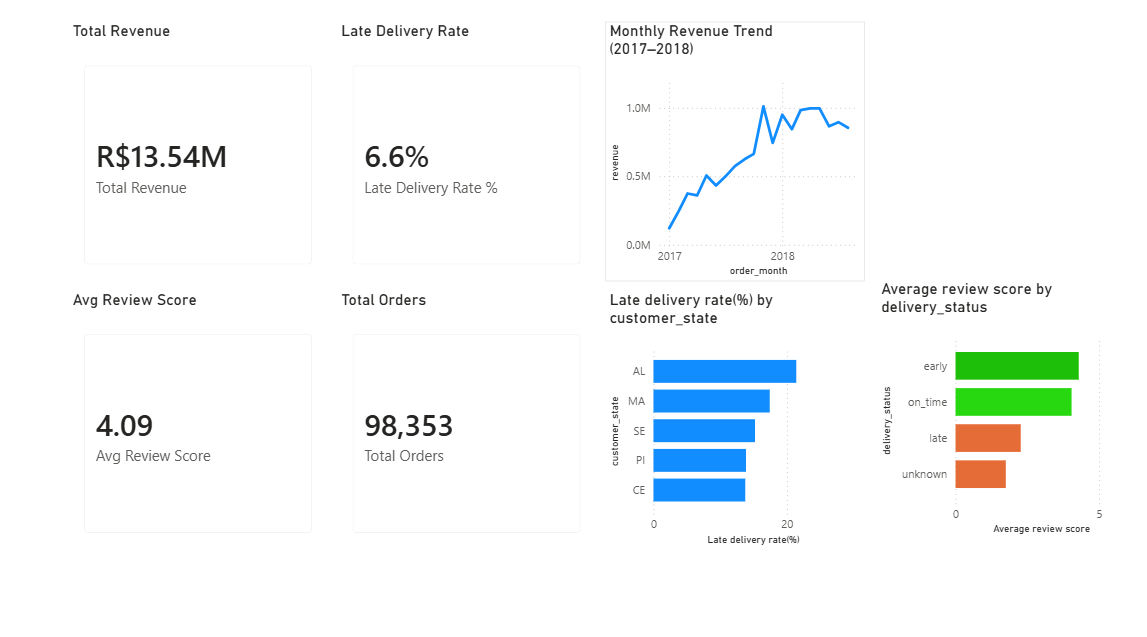

The dashboard page shown, as its layout file describes it:
{"tool":"powerbi","page":{"name":"Executive Overview","canvas":[1280,720],"ordinal":0},"visuals":[{"type":"cardVisual","title":"Total Revenue","fields":{"Data":["_Measures.Total Revenue"]},"box":[77.7,30.8,280,280],"z":0},{"type":"cardVisual","title":"Avg Review Score","fields":{"Data":["_Measures.Avg Review Score"]},"box":[78,321,280,280],"z":1000},{"type":"cardVisual","title":"Late Delivery Rate","fields":{"Data":["_Measures.Late Delivery Rate %"]},"box":[367.6,30.8,280,280],"z":2000},{"type":"cardVisual","title":"Total Orders","fields":{"Data":["_Measures.Total Orders"]},"box":[368,321,280,280],"z":3000},{"type":"lineChart","title":"Monthly Revenue Trend (2017–2018)","fields":{"Y":["Sum(public vw_monthly_revenue.total_revenue)"],"Category":["public vw_monthly_revenue.order_month"]},"box":[658,31,280,280],"z":4000},{"type":"clusteredBarChart","fields":{"Category":["public vw_late_delivery_by_state.customer_state"],"Y":["Avg(public vw_late_delivery_by_state.late_rate_pct)"]},"box":[658,321,280,280],"z":5000},{"type":"clusteredBarChart","fields":{"Category":["public vw_review_score_by_delivery_status.delivery_status"],"Y":["Avg(public vw_review_score_by_delivery_status.avg_review_score)"]},"box":[950.6,309.9,280,280],"z":6000}]}

Visuals, with their boxes in screenshot pixels (x1, y1, x2, y2), scaled from the page's 1280x720 canvas onto the 1147x637 screenshot:
"Total Revenue" cardVisual: (70, 27, 321, 275)
"Avg Review Score" cardVisual: (70, 284, 321, 532)
"Late Delivery Rate" cardVisual: (329, 27, 580, 275)
"Total Orders" cardVisual: (330, 284, 581, 532)
"Monthly Revenue Trend (2017–2018)" lineChart: (590, 27, 841, 275)
clusteredBarChart - public vw_late_delivery_by_state.customer_state x Avg(public vw_late_delivery_by_state.late_rate_pct): (590, 284, 841, 532)
clusteredBarChart - public vw_review_score_by_delivery_status.delivery_status x Avg(public vw_review_score_by_delivery_status.avg_review_score): (852, 274, 1103, 522)
